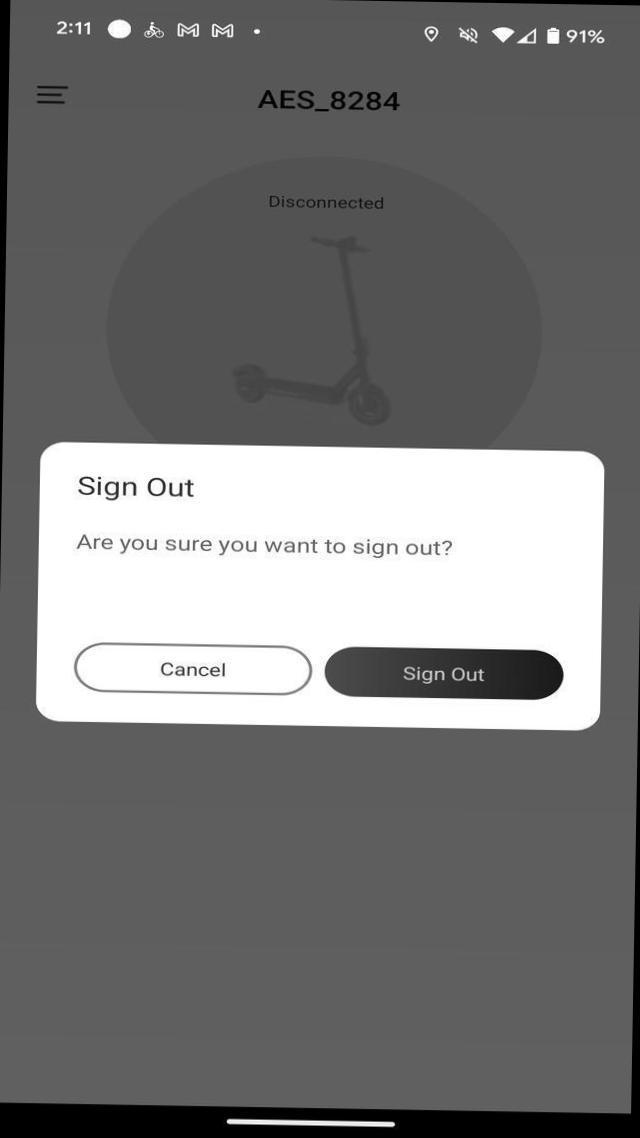Icon: (31, 77, 74, 110), (138, 16, 168, 46), (102, 18, 134, 42), (452, 21, 480, 47), (206, 19, 237, 40), (489, 24, 514, 44), (174, 21, 200, 40), (518, 24, 538, 45), (544, 22, 560, 46), (424, 26, 439, 48), (248, 23, 267, 38)
Image: (213, 227, 459, 431)
Text: (66, 522, 470, 572), (250, 81, 410, 122), (257, 185, 393, 218), (67, 471, 202, 504), (397, 662, 492, 687), (149, 656, 237, 682), (48, 15, 95, 43), (564, 24, 610, 48)
TextButton: (321, 644, 563, 701), (70, 642, 314, 697)
